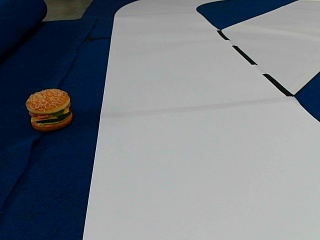burger: (26, 89, 72, 131)
